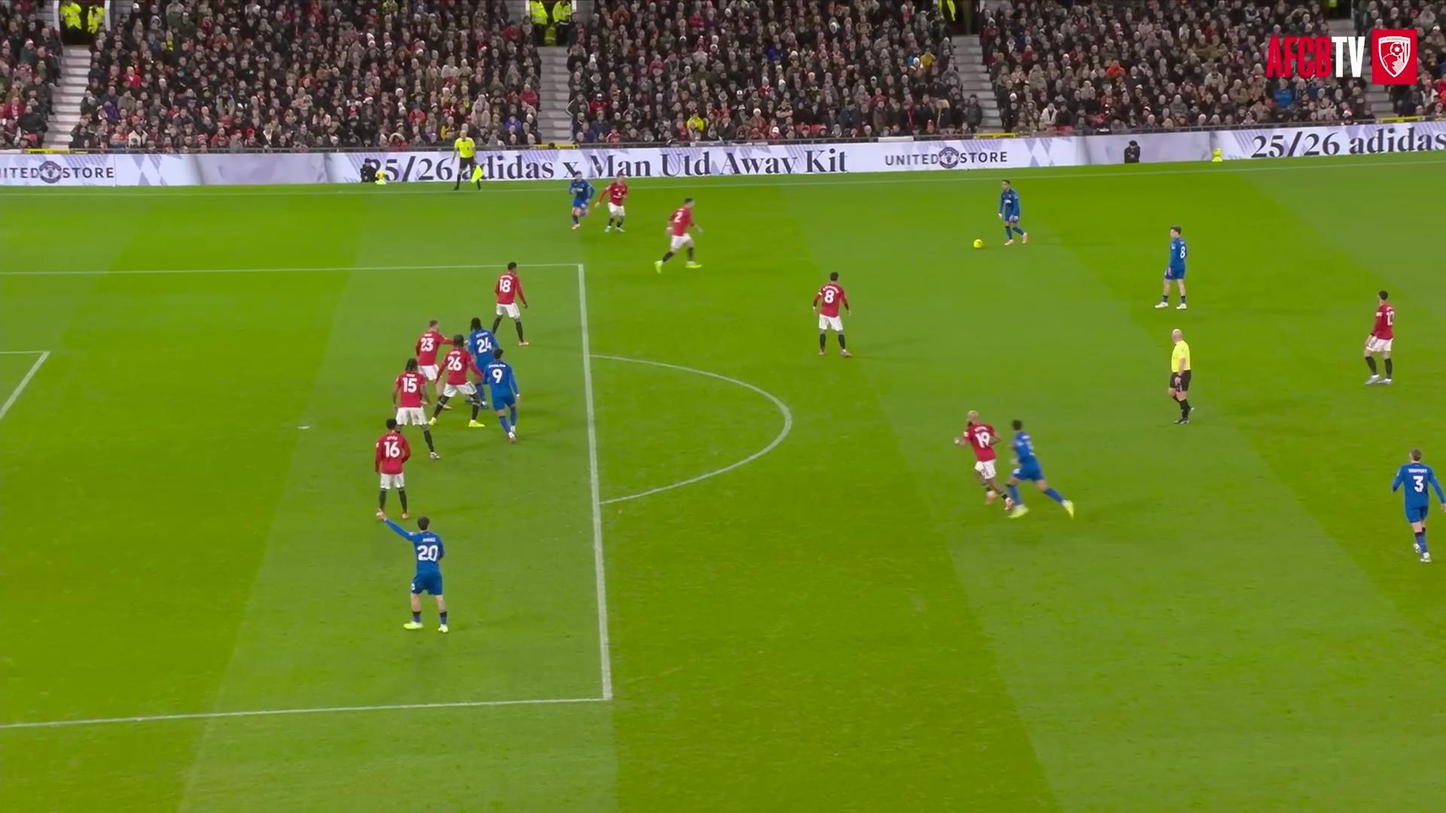football: (972, 237, 989, 253)
player: (383, 516, 447, 632), (1005, 419, 1073, 518), (1392, 449, 1445, 562), (955, 410, 1012, 510), (429, 335, 484, 427), (392, 358, 439, 458), (654, 197, 703, 272), (374, 419, 410, 518), (483, 348, 519, 442), (813, 273, 850, 357), (491, 263, 527, 346), (1365, 290, 1394, 383), (1155, 226, 1187, 309), (415, 320, 446, 395), (999, 180, 1027, 245), (467, 317, 496, 369), (569, 172, 594, 228), (604, 174, 628, 232)
referee: (1169, 330, 1191, 424), (454, 125, 479, 190)
